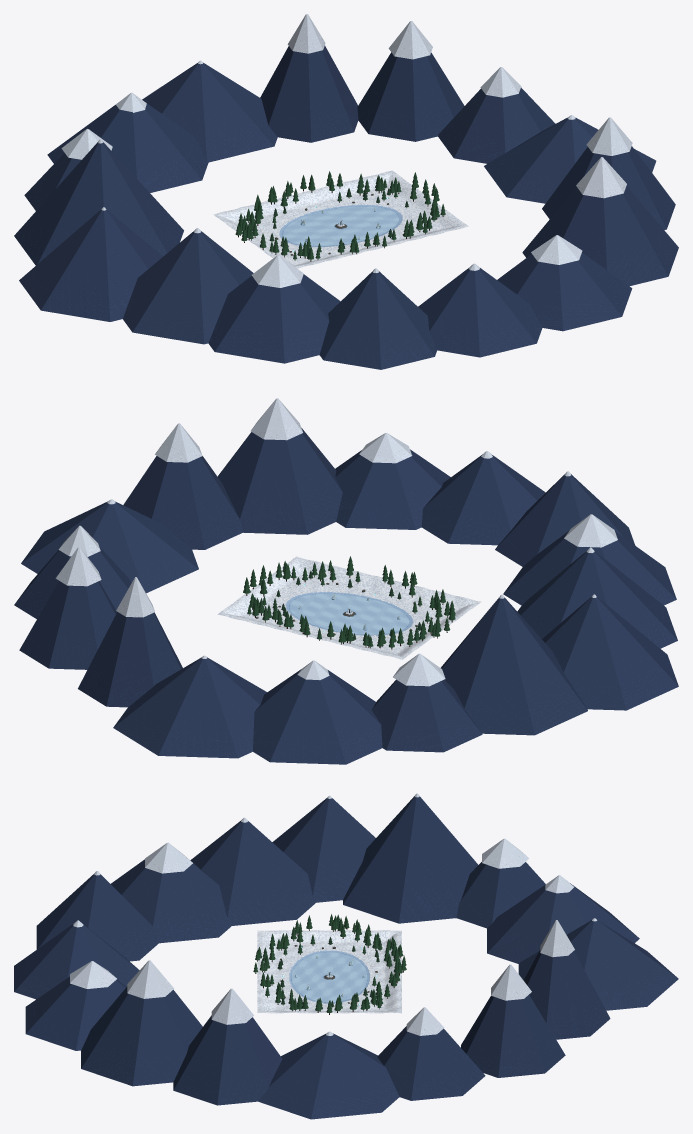
File: lake.glb
The picture shows the model from 3 angles, top to bottom: view 1: azimuth 30°, elevation 25°; view 2: azimuth 150°, elevation 25°; view 3: azimuth 270°, elevation 25°; orthographic projection. The views are drawn at different scales.
Visible parts, largest first — view 1: lake_far, ground, env_ice_lake; view 2: lake_far, ground, env_ice_lake; view 3: lake_far, ground, env_ice_lake.
Boxes of the visible parts, x1,y1,x2,y2 form: lake_far: (14,14,678,369); ground: (213,170,468,268); env_ice_lake: (283,206,398,245); lake_far: (14,398,678,764); ground: (217,556,481,659); env_ice_lake: (289,593,409,634); lake_far: (14,793,678,1119); ground: (257,930,401,1013); env_ice_lake: (291,952,367,1002).
Bounding box in the file's own units: 631 × 102 × 626.
2 materials, 1 textured.
